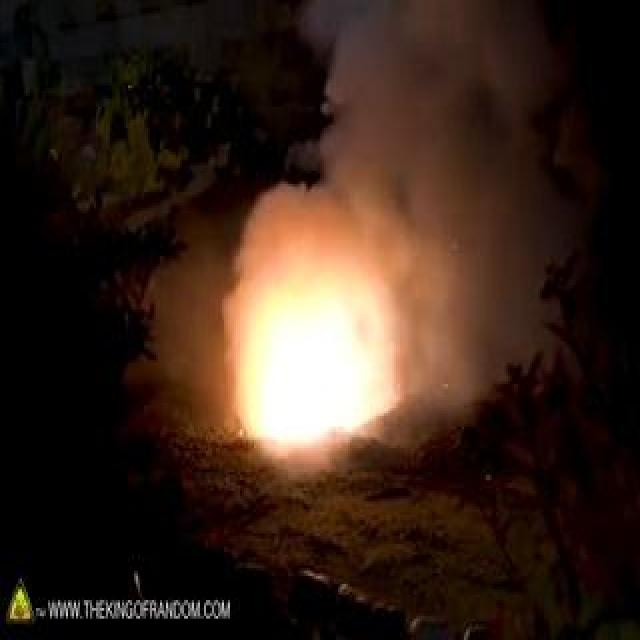Fire: (168, 174, 317, 358)
